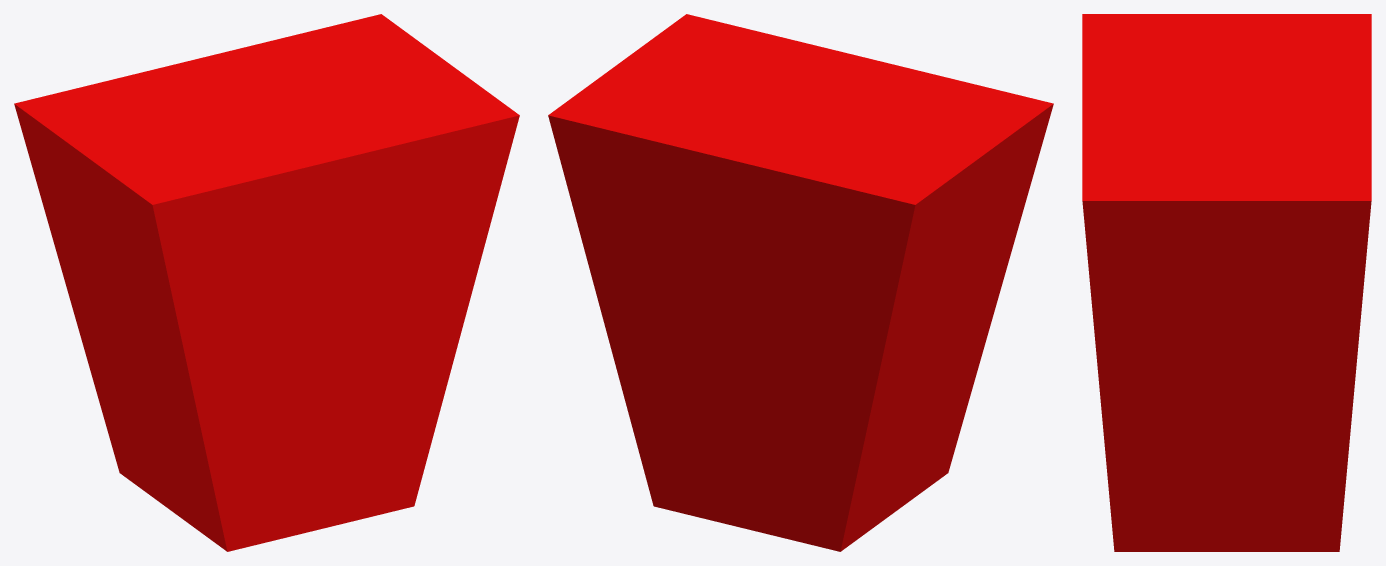
File: phys_player_body_red.glb
3 views of the same model, side by side, from view 1: azimuth 30°, elevation 25°; view 2: azimuth 150°, elevation 25°; view 3: azimuth 270°, elevation 25° (orthographic). The views are drawn at different scales.
Parts seen in each view (by area): view 1: Cube.001; view 2: Cube.001; view 3: Cube.001.
Boxes of the visible parts, <box> form: Cube.001: <box>14,14,519,551</box>; Cube.001: <box>548,14,1053,551</box>; Cube.001: <box>1082,14,1371,551</box>.
Size of the model in its own units: 3.27 by 3.23 by 2.13.
